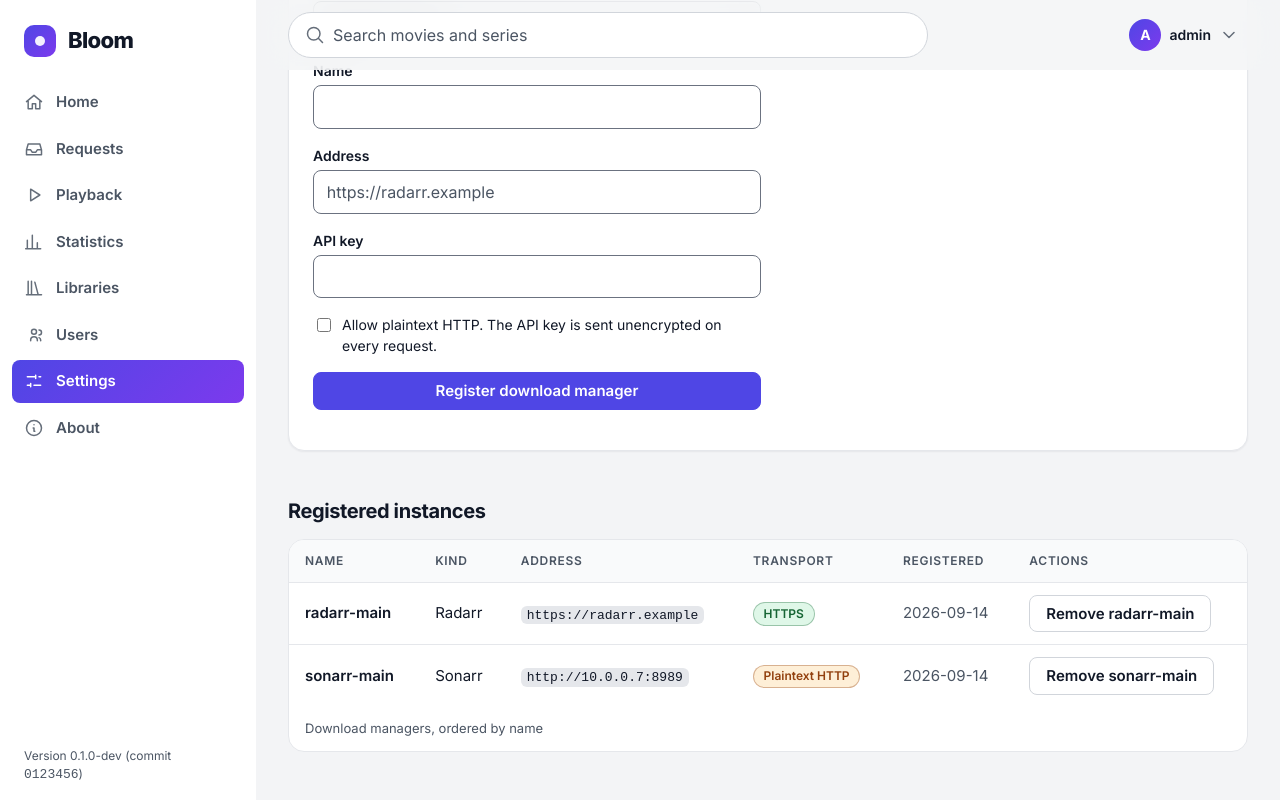
Test: refuses to remove an instance a profile still uses
(page scrolled)
Step 1. Click the button "Remove radarr-main" → (1120, 614), box [1029,595,1212,632]
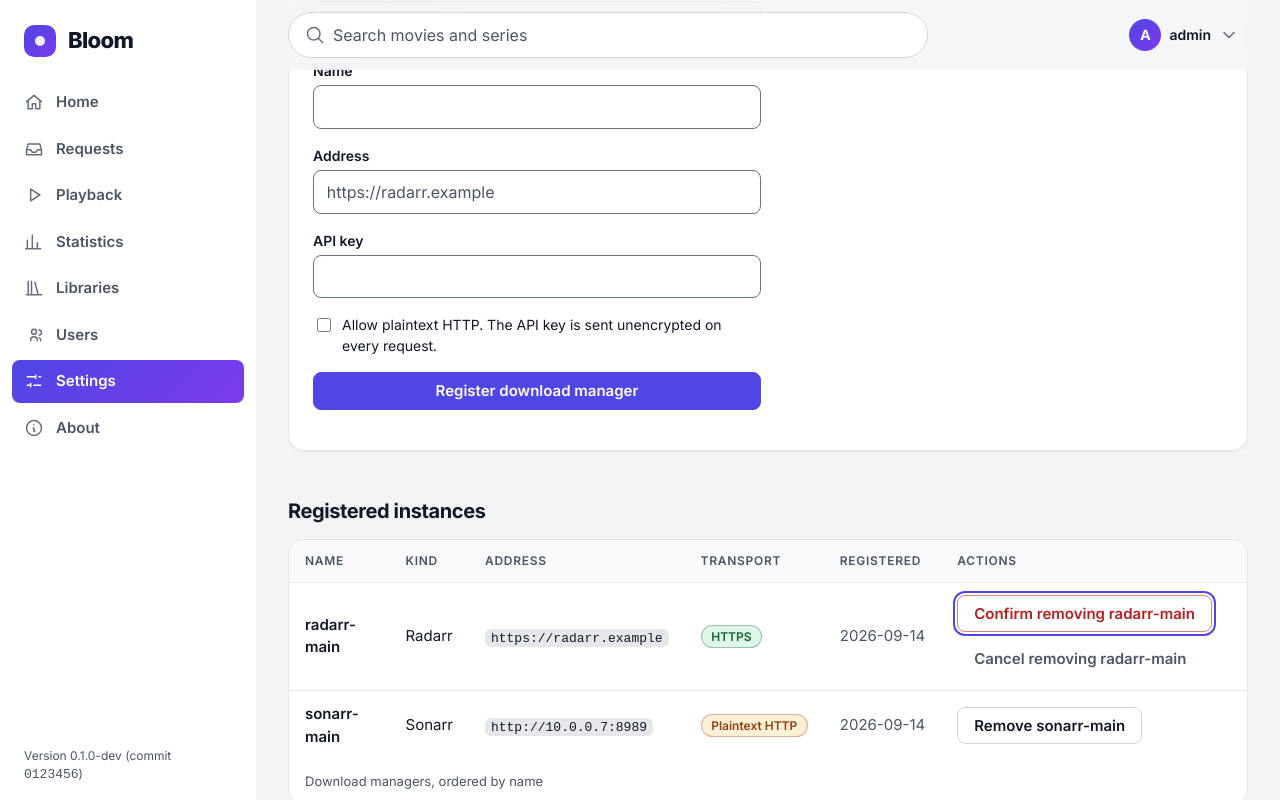
Step 2. Click the button "Confirm removing radarr-main" → (1084, 614), box [957,595,1212,632]
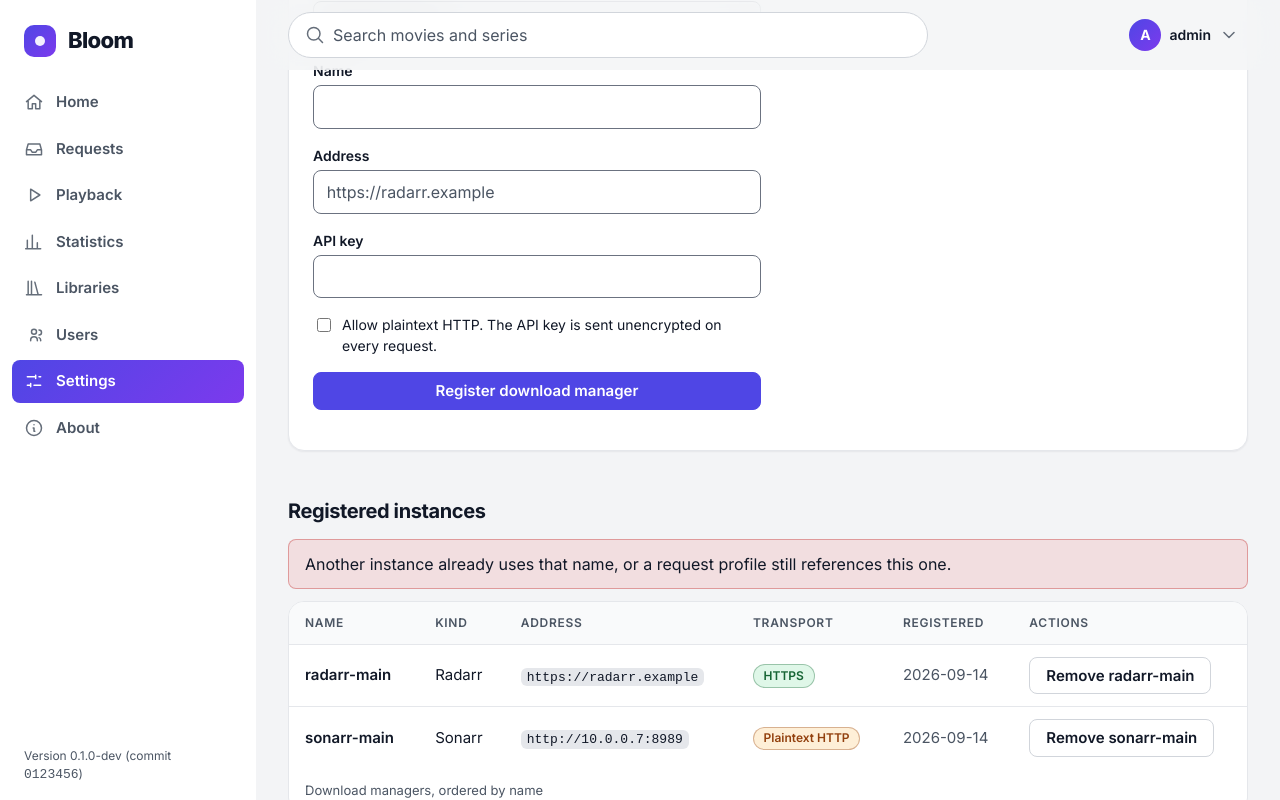
Check: the message shows "a request profile still references this one", box [305,554,951,574]
